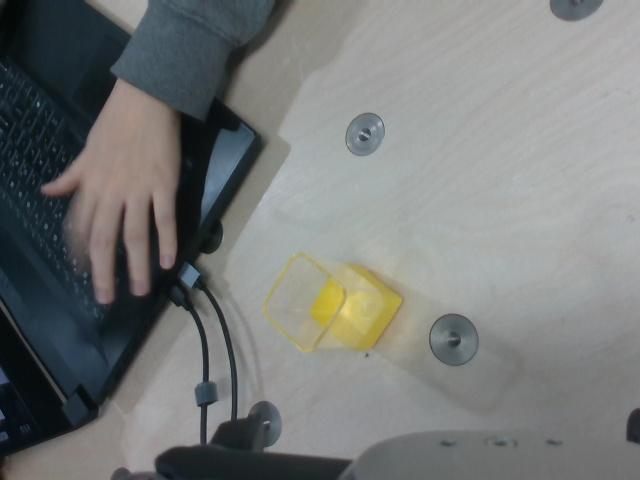yellow_cup: (311, 263, 403, 353)
